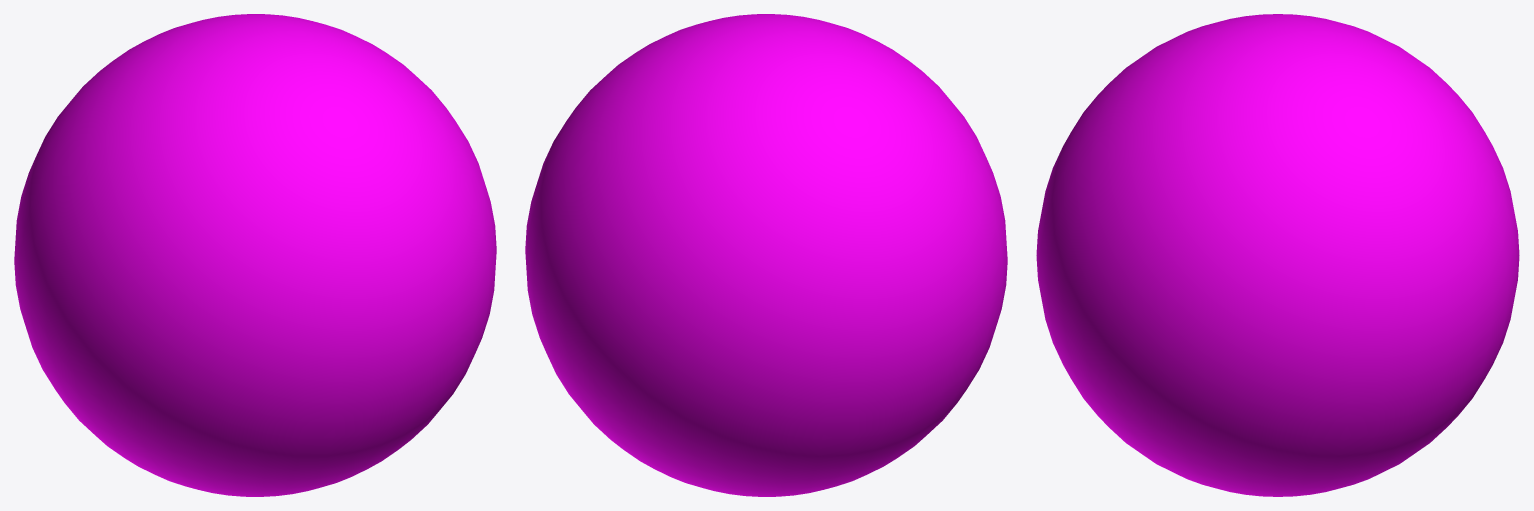
The picture shows the model from 3 angles, left to right: view 1: azimuth 30°, elevation 25°; view 2: azimuth 150°, elevation 25°; view 3: azimuth 270°, elevation 25°; orthographic projection.
Visible parts, largest first — view 1: 구 1; view 2: 구 1; view 3: 구 1.
Part boxes in pixels (box(x1,y1,x2,y2)): 구 1: box(14, 14, 496, 496); 구 1: box(525, 14, 1007, 496); 구 1: box(1036, 14, 1519, 496).
Bounding box in the file's own units: 1.22 × 1.22 × 1.22.
